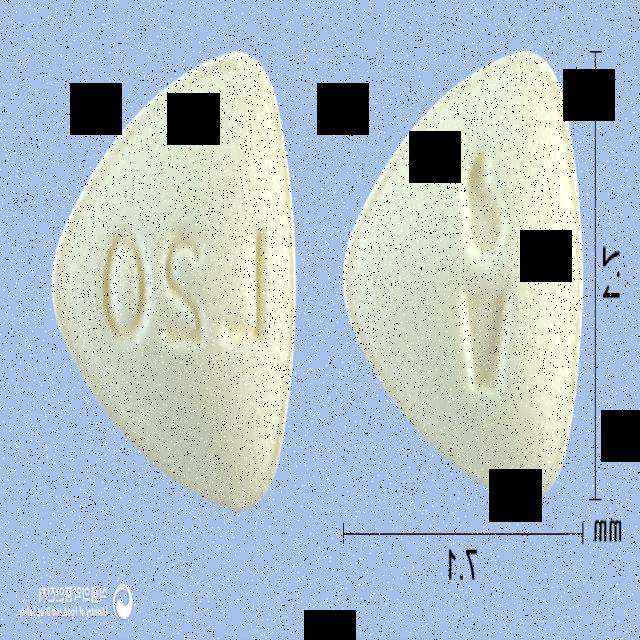Leflu - 10mg: (49, 46, 296, 514), (340, 47, 586, 503)
